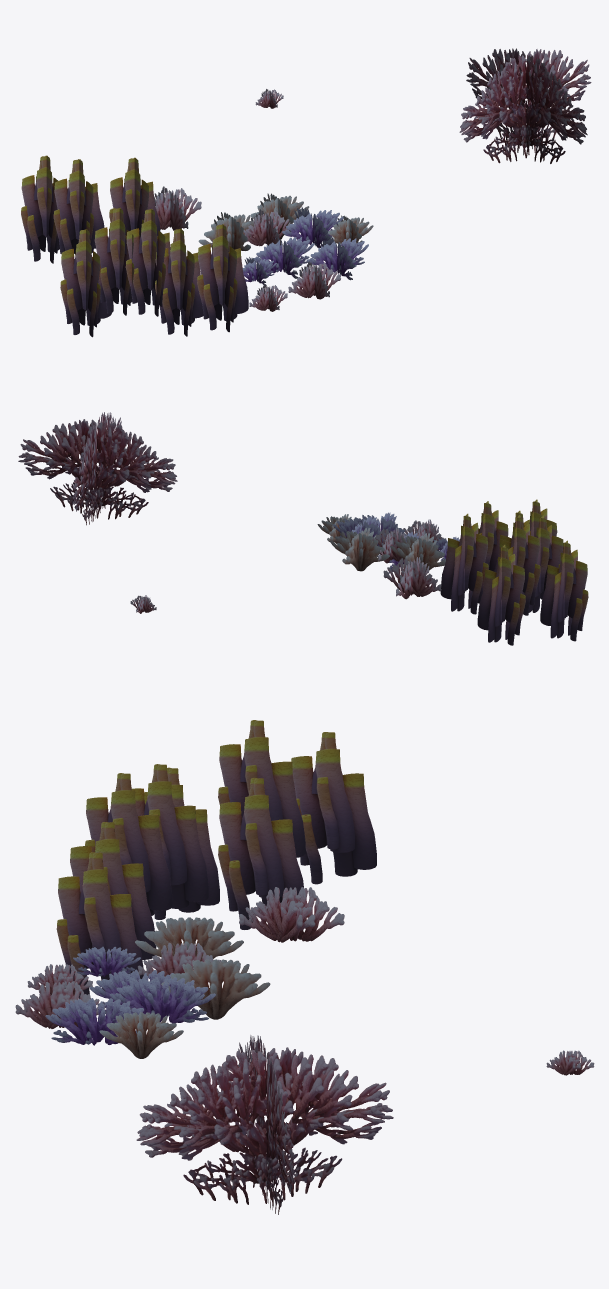
File: ENV_SeaPlant_img.fbx
The picture shows the model from 3 angles, top to bottom: view 1: azimuth 30°, elevation 25°; view 2: azimuth 150°, elevation 25°; view 3: azimuth 270°, elevation 25°; orthographic projection. The views are drawn at different scales.
Parts seen in each view (by area): view 1: Aset_Sea_Plant_Img_5, Aset_Sea_Plant_Img_1.002, Aset_Sea_Plant_Img_1, Aset_Sea_Plant_Img_1.001, Aset_Sea_Plant_Img_1.003, Aset_Sea_Plant_Img_1.004, Aset_Sea_Plant_Img_1.006, Aset_Sea_Plant_Img_1.007, Aset_Sea_Plant_Img_1.005, Aset_Sea_Plant_Img_2, Aset_Sea_Plant_Img_4.003, Aset_Sea_Plant_Img_2.003 (+8 smaller); view 2: Aset_Sea_Plant_Img_5, Aset_Sea_Plant_Img_1, Aset_Sea_Plant_Img_1.006, Aset_Sea_Plant_Img_1.005, Aset_Sea_Plant_Img_1.004, Aset_Sea_Plant_Img_4.003, Aset_Sea_Plant_Img_3.001, Aset_Sea_Plant_Img_1.007, Aset_Sea_Plant_Img_3.002, Aset_Sea_Plant_Img_1.002, Aset_Sea_Plant_Img_4.002, Aset_Sea_Plant_Img_2.003 (+4 smaller); view 3: Aset_Sea_Plant_Img_5, Aset_Sea_Plant_Img_1.006, Aset_Sea_Plant_Img_1.005, Aset_Sea_Plant_Img_1.002, Aset_Sea_Plant_Img_1.001, Aset_Sea_Plant_Img_1.007, Aset_Sea_Plant_Img_1.004, Aset_Sea_Plant_Img_4.003, Aset_Sea_Plant_Img_1.003, Aset_Sea_Plant_Img_3.001, Aset_Sea_Plant_Img_2.003, Aset_Sea_Plant_Img_2 (+9 smaller).
Part boxes in pixels (<box>): Aset_Sea_Plant_Img_5: <box>459,48,591,163</box>; Aset_Sea_Plant_Img_1.002: <box>197,224,248,332</box>; Aset_Sea_Plant_Img_1: <box>60,229,111,337</box>; Aset_Sea_Plant_Img_1.001: <box>125,209,170,316</box>; Aset_Sea_Plant_Img_1.003: <box>155,228,203,336</box>; Aset_Sea_Plant_Img_1.004: <box>53,159,104,254</box>; Aset_Sea_Plant_Img_1.006: <box>21,155,59,263</box>; Aset_Sea_Plant_Img_1.007: <box>94,208,134,315</box>; Aset_Sea_Plant_Img_1.005: <box>109,157,160,238</box>; Aset_Sea_Plant_Img_2: <box>306,236,368,280</box>; Aset_Sea_Plant_Img_4.003: <box>154,186,201,230</box>; Aset_Sea_Plant_Img_2.003: <box>282,207,343,247</box>; Aset_Sea_Plant_Img_5: <box>18,412,177,525</box>; Aset_Sea_Plant_Img_1: <box>540,540,588,641</box>; Aset_Sea_Plant_Img_1.006: <box>477,545,525,645</box>; Aset_Sea_Plant_Img_1.005: <box>440,513,488,614</box>; Aset_Sea_Plant_Img_1.004: <box>495,515,540,615</box>; Aset_Sea_Plant_Img_4.003: <box>383,557,441,599</box>; Aset_Sea_Plant_Img_3.001: <box>330,528,389,571</box>; Aset_Sea_Plant_Img_1.007: <box>528,515,563,612</box>; Aset_Sea_Plant_Img_3.002: <box>390,533,445,570</box>; Aset_Sea_Plant_Img_1.002: <box>478,501,508,571</box>; Aset_Sea_Plant_Img_4.002: <box>371,527,407,563</box>; Aset_Sea_Plant_Img_2.003: <box>332,516,385,546</box>; Aset_Sea_Plant_Img_5: <box>136,1035,393,1214</box>; Aset_Sea_Plant_Img_1.006: <box>291,732,376,884</box>; Aset_Sea_Plant_Img_1.005: <box>218,777,304,929</box>; Aset_Sea_Plant_Img_1.002: <box>56,852,143,998</box>; Aset_Sea_Plant_Img_1.001: <box>85,773,172,914</box>; Aset_Sea_Plant_Img_1.007: <box>132,764,208,915</box>; Aset_Sea_Plant_Img_1.004: <box>218,720,305,857</box>; Aset_Sea_Plant_Img_4.003: <box>239,887,344,942</box>; Aset_Sea_Plant_Img_1.003: <box>70,822,156,972</box>; Aset_Sea_Plant_Img_3.001: <box>161,959,270,1019</box>; Aset_Sea_Plant_Img_2.003: <box>109,977,215,1023</box>; Aset_Sea_Plant_Img_2: <box>45,998,144,1045</box>.
Bounding box in the file's own units: 596 × 155 × 350.
